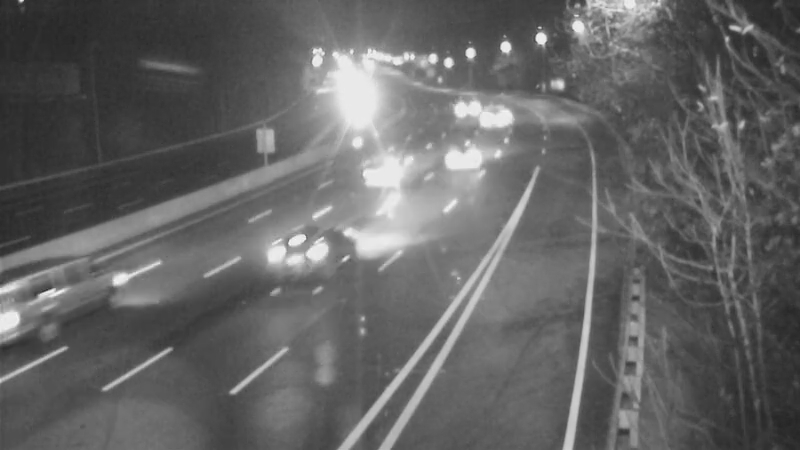vehicle: (420, 121, 500, 201), (349, 127, 429, 207), (267, 211, 347, 291), (20, 257, 100, 337), (437, 83, 487, 133), (467, 94, 517, 144)
